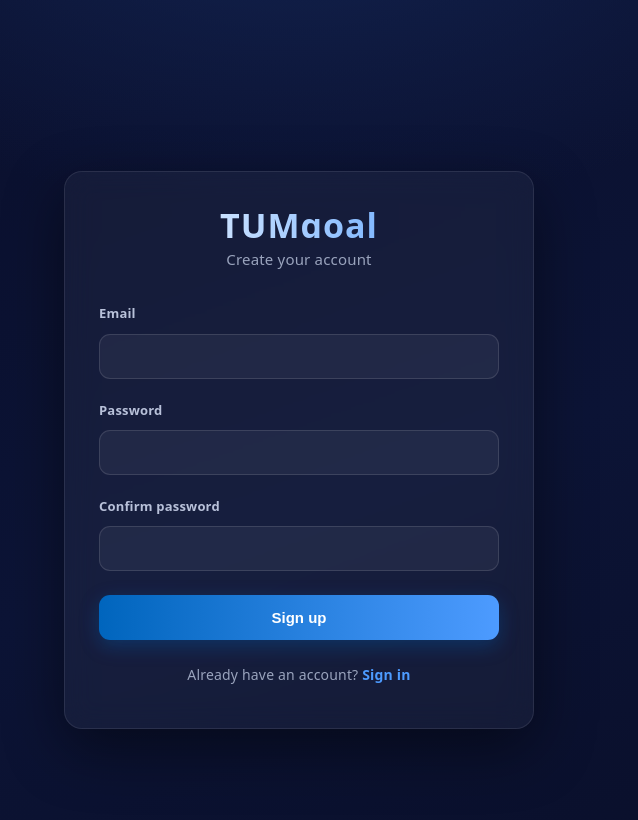
Test: Signup page › shows error when passwords do not match
This screenshot has width=638, height=820.
Type "test@example.com" into the field labelled "Email" at x=299, y=356, box [99,334,499,378]
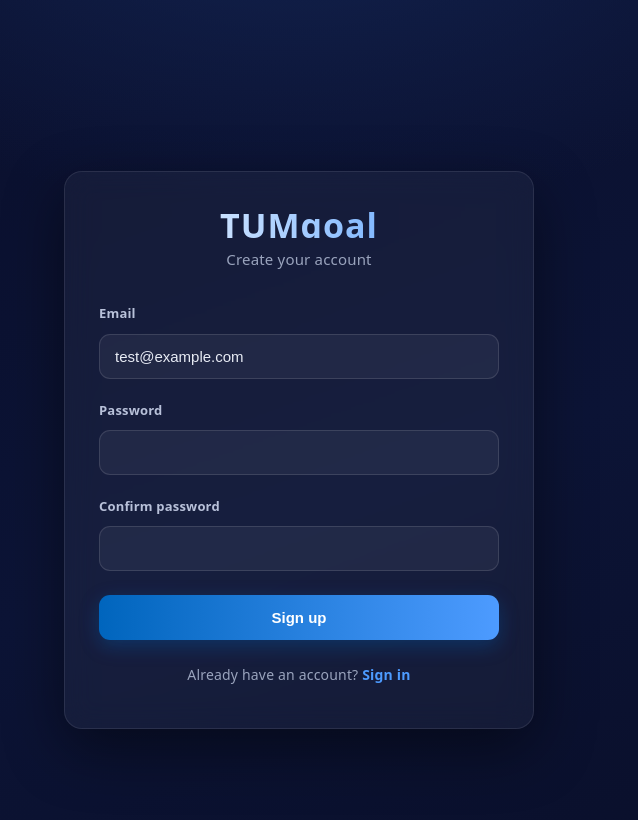
Type "password123" into the password field labelled "Password" at x=299, y=452, box [99,430,499,475]
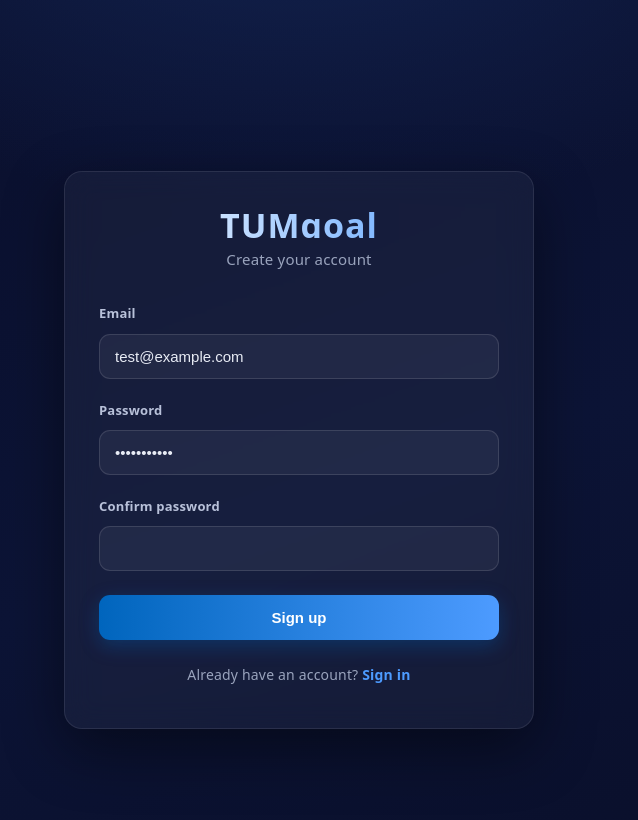
Type "different123" into the password field labelled "Confirm password" at x=299, y=548, box [99,526,499,571]
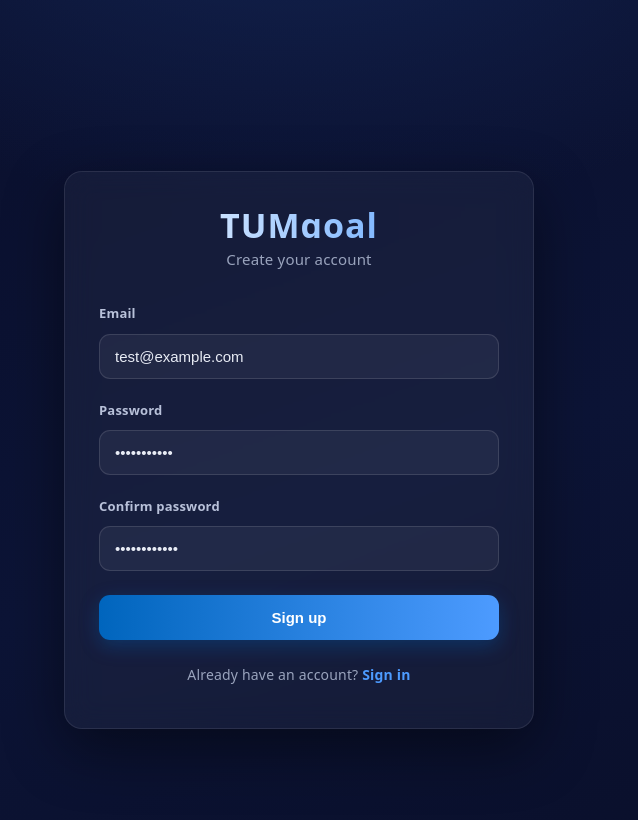
Click the button "Sign up" at x=299, y=617, box [99,595,499,640]
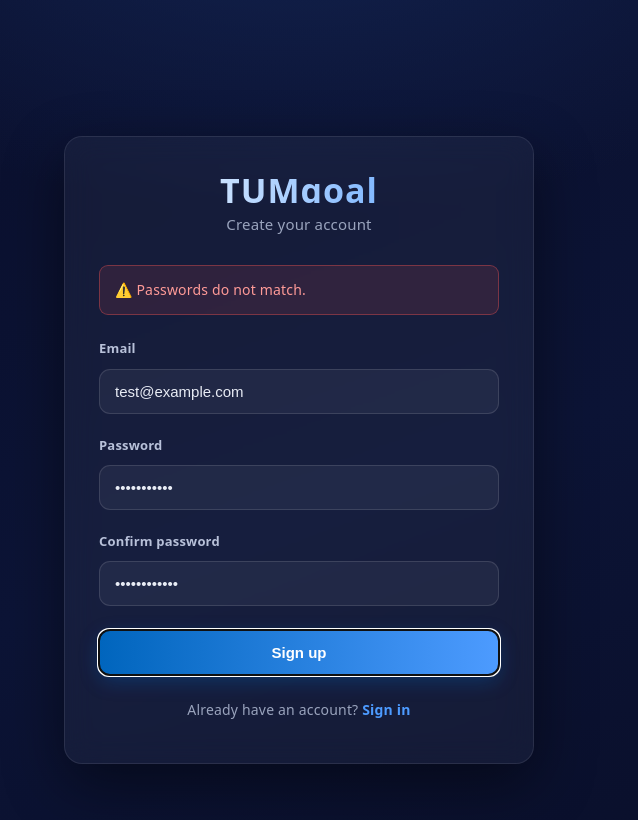
Expected: the text "⚠️ Passwords do not match." is shown, [99,265,499,316]
